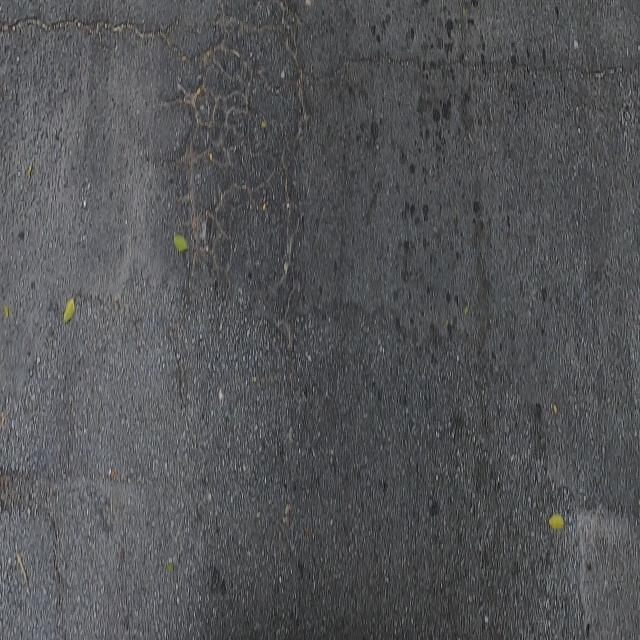Retak-Buaya: (171, 15, 318, 309)
Retak-Melintang: (340, 48, 639, 77), (2, 8, 175, 46)
